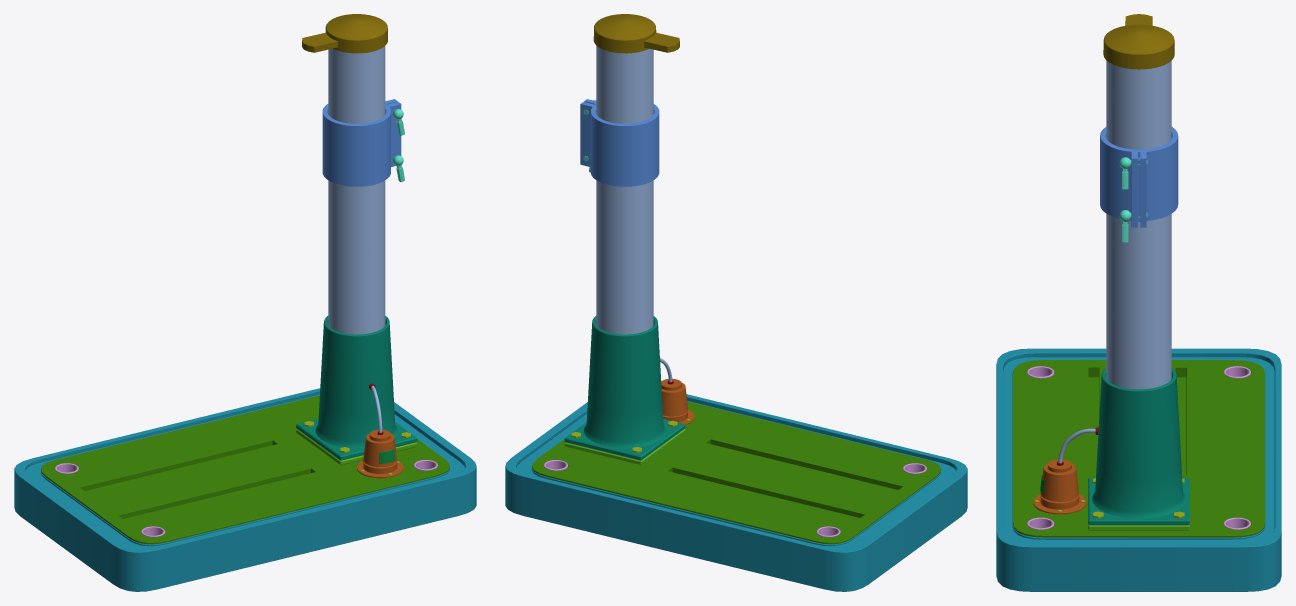
Rendered from base_robot.obj.
The picture shows the model from 3 angles, left to right: view 1: azimuth 30°, elevation 25°; view 2: azimuth 150°, elevation 25°; view 3: azimuth 270°, elevation 25°; orthographic projection. The views are drawn at different scales.
Parts seen in each view (by area): view 1: Object01, Box01, Cylinder02, Box04, Tube08, Cylinder03, Cylinder01; view 2: Object01, Box01, Cylinder02, Box04, Tube08, Cylinder03, Cylinder01, Box03; view 3: Object01, Box01, Cylinder02, Box04, Tube08, Cylinder03, Cylinder01, Box03.
Part boxes in pixels (bbox=[...]): Object01: bbox=[41, 395, 449, 544]; Box01: bbox=[14, 388, 476, 591]; Cylinder02: bbox=[328, 46, 385, 334]; Box04: bbox=[296, 316, 417, 460]; Tube08: bbox=[322, 99, 401, 186]; Cylinder03: bbox=[302, 14, 387, 53]; Cylinder01: bbox=[357, 429, 403, 478]; Object01: bbox=[532, 401, 940, 544]; Box01: bbox=[505, 394, 967, 591]; Cylinder02: bbox=[596, 46, 653, 334]; Box04: bbox=[564, 316, 685, 460]; Tube08: bbox=[580, 99, 659, 186]; Cylinder03: bbox=[593, 14, 679, 53]; Cylinder01: bbox=[661, 378, 694, 424]; Box03: bbox=[564, 429, 685, 465]; Object01: bbox=[1012, 360, 1265, 537]; Box01: bbox=[996, 348, 1281, 591]; Cylinder02: bbox=[1106, 60, 1171, 389]; Box04: bbox=[1088, 368, 1189, 525]; Tube08: bbox=[1100, 127, 1178, 227]; Cylinder03: bbox=[1103, 14, 1174, 69]; Cylinder01: bbox=[1033, 459, 1086, 514]; Box03: bbox=[1088, 524, 1189, 530].
Size of the model in its own units: 102 by 125 by 61.77.
